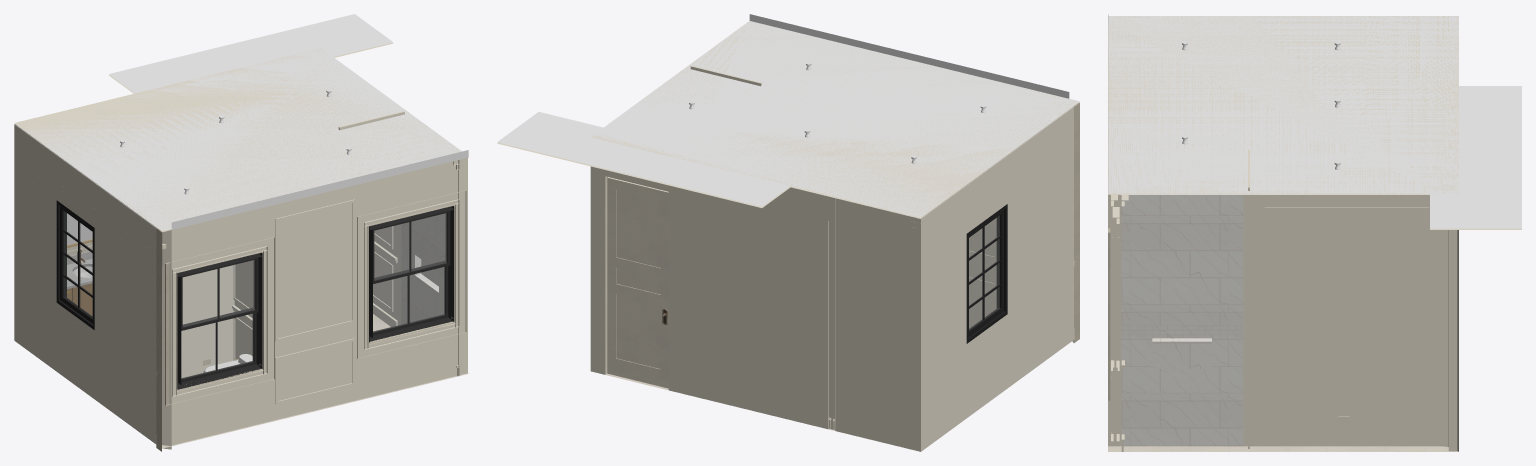
Rendered from primary-bath-14fcd955a1db.glb.
3 renders of one model, left to right at view 1: azimuth 30°, elevation 25°; view 2: azimuth 150°, elevation 25°; view 3: azimuth 270°, elevation 25°, orthographic. The views are drawn at different scales.
Parts seen in each view (by area): view 1: primary-bath-b0ade14315e4f1c3, primary-bath-9d91b47435c6fb33, primary-bath-e8793759323e04f0, primary-bath-c51ecd664a3b22a3, primary-bath-60f0db96f832035a, primary-bath-b5cb73c07919def8, primary-bath-look-9d91b47435c6fb33, primary-bath-10eba734bfa580f9, primary-bath-20932135983111ad, primary-bath-62353aa10fc57f23, primary-bath-696f63e7cd8f31cf, primary-bath-2bc0761cc32b9613 (+9 smaller); view 2: primary-bath-9ecc0d558be1c706, primary-bath-9d91b47435c6fb33, primary-bath-c51ecd664a3b22a3, primary-bath-e8793759323e04f0, primary-bath-18f70a4a9eda5dac, primary-bath-look-9d91b47435c6fb33, primary-bath-20932135983111ad, primary-bath-25ea03c5717987c5, primary-bath-e48b5483df8cacdb, primary-bath-b88ac105ef7c3bdb, primary-bath-62353aa10fc57f23; view 3: primary-bath-9d91b47435c6fb33, primary-bath-fc6585fecfaf7ec3, primary-bath-e8793759323e04f0, primary-bath-3d8660a29b1e398e, primary-bath-2bc0761cc32b9613, primary-bath-look-9d91b47435c6fb33, primary-bath-c791a0f218fead78, primary-bath-9ecc0d558be1c706, primary-bath-343da8f45fc39332, primary-bath-b3921aced1f99593, primary-bath-b3dc771ed6f89851, primary-bath-38b306e83be12a4b (+8 smaller).
Boxes of the visible parts, <box> form: primary-bath-b0ade14315e4f1c3: <box>171,157,467,445</box>; primary-bath-9d91b47435c6fb33: <box>14,48,468,232</box>; primary-bath-e8793759323e04f0: <box>14,48,468,230</box>; primary-bath-c51ecd664a3b22a3: <box>14,124,156,444</box>; primary-bath-60f0db96f832035a: <box>177,252,262,389</box>; primary-bath-b5cb73c07919def8: <box>369,206,454,342</box>; primary-bath-look-9d91b47435c6fb33: <box>109,14,393,93</box>; primary-bath-10eba734bfa580f9: <box>184,265,234,377</box>; primary-bath-20932135983111ad: <box>56,200,94,329</box>; primary-bath-62353aa10fc57f23: <box>156,228,171,451</box>; primary-bath-696f63e7cd8f31cf: <box>172,246,267,396</box>; primary-bath-2bc0761cc32b9613: <box>401,244,444,324</box>; primary-bath-9ecc0d558be1c706: <box>590,166,919,451</box>; primary-bath-9d91b47435c6fb33: <box>591,21,1079,218</box>; primary-bath-c51ecd664a3b22a3: <box>911,107,1073,451</box>; primary-bath-e8793759323e04f0: <box>591,14,1075,217</box>; primary-bath-18f70a4a9eda5dac: <box>607,177,668,388</box>; primary-bath-look-9d91b47435c6fb33: <box>497,112,790,207</box>; primary-bath-20932135983111ad: <box>966,204,1007,343</box>; primary-bath-25ea03c5717987c5: <box>969,218,996,328</box>; primary-bath-e48b5483df8cacdb: <box>827,196,836,430</box>; primary-bath-b88ac105ef7c3bdb: <box>603,174,669,390</box>; primary-bath-62353aa10fc57f23: <box>1072,103,1079,342</box>; primary-bath-9d91b47435c6fb33: <box>1108,16,1458,194</box>; primary-bath-fc6585fecfaf7ec3: <box>1248,193,1458,451</box>; primary-bath-e8793759323e04f0: <box>1108,14,1458,193</box>; primary-bath-3d8660a29b1e398e: <box>1121,195,1242,324</box>; primary-bath-2bc0761cc32b9613: <box>1121,338,1242,446</box>; primary-bath-look-9d91b47435c6fb33: <box>1430,86,1521,229</box>; primary-bath-c791a0f218fead78: <box>1108,193,1247,451</box>; primary-bath-9ecc0d558be1c706: <box>1447,230,1458,451</box>; primary-bath-343da8f45fc39332: <box>1253,434,1439,446</box>; primary-bath-b3921aced1f99593: <box>1108,446,1457,451</box>; primary-bath-b3dc771ed6f89851: <box>1264,207,1428,352</box>; primary-bath-38b306e83be12a4b: <box>1121,324,1242,338</box>.
Size of the model in its own units: 5.14 by 3.04 by 4.23.
38 materials, 8 textured.
